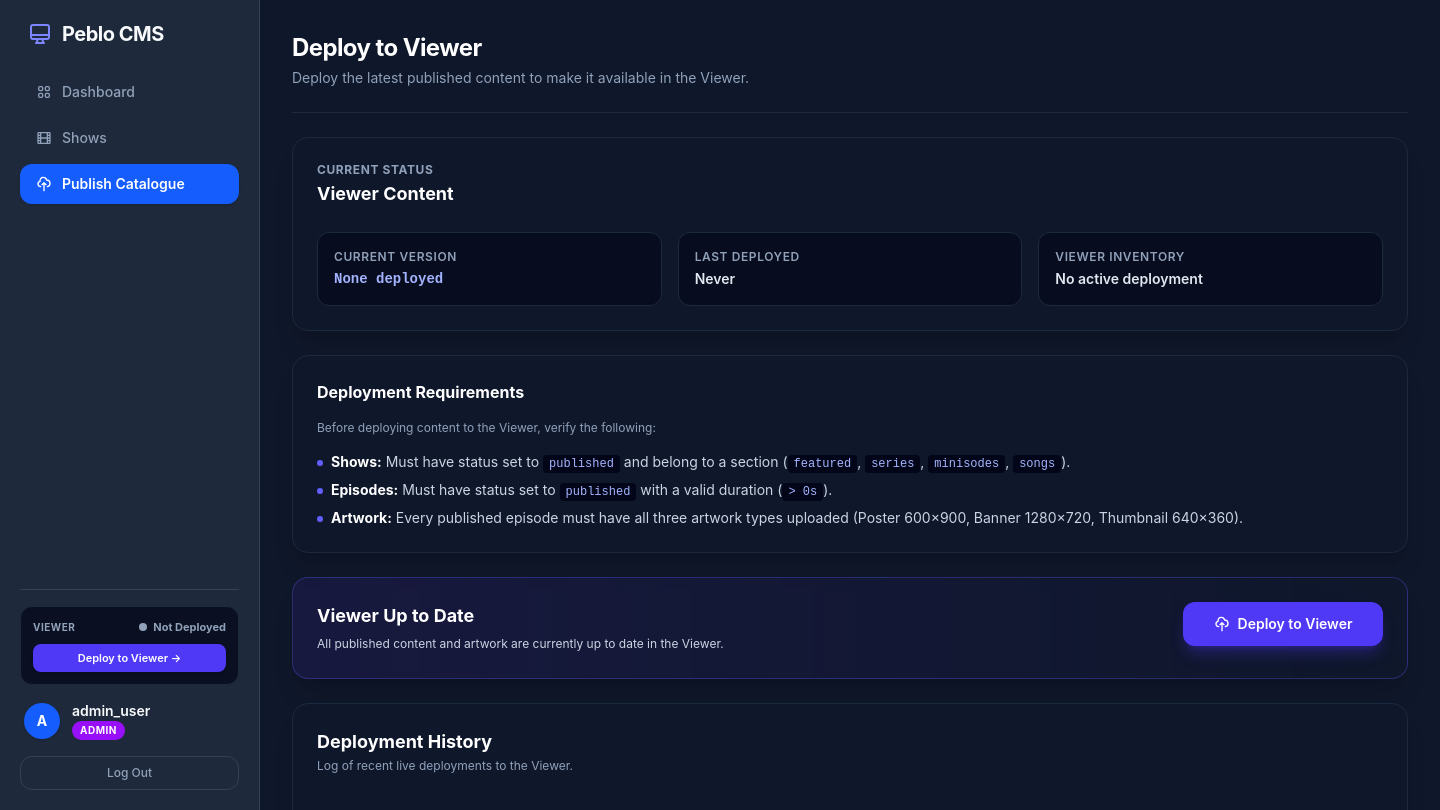
Test: CMS Catalogue Publishing › shows loading state and prevents duplicate submission while publishing is in flight
The image size is (1440, 810).
Expected: the text with test id "current-username" reads "admin_user", [72,702,150,719]
Click the button with test id "publish-catalog-btn". click: (1283, 624)
box: [1183,602,1383,646]
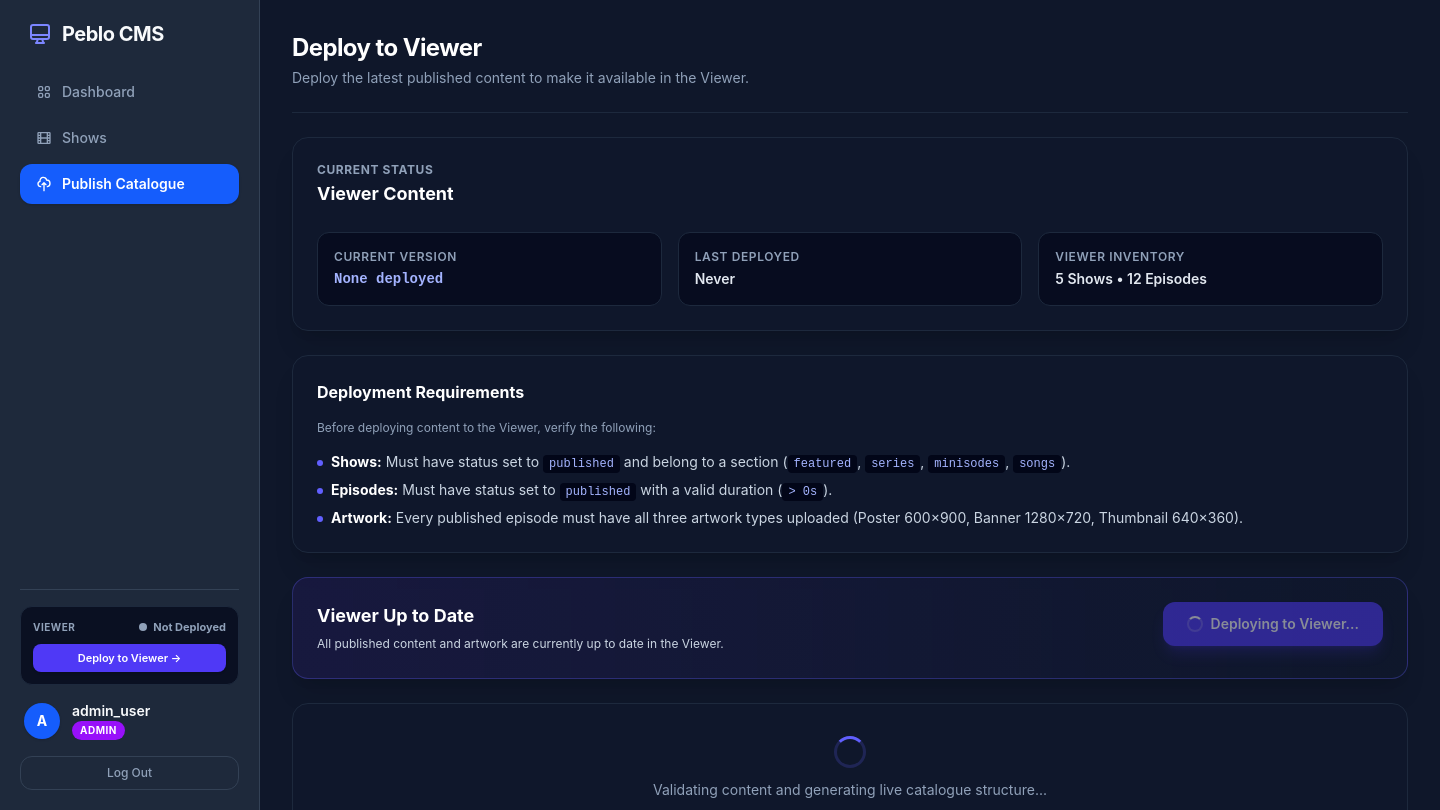
Now the element with test id "publish-loading-state" is shown, box [292,702,1408,809]
Now the button with test id "publish-catalog-btn" is disabled
Now the button "Deploying to Viewer..." is shown
Note: Click again while in-flight (duplicate submission prevention)
Click the button "Deploying to Viewer...". click: (1273, 624)
box: [1162,602,1383,646]
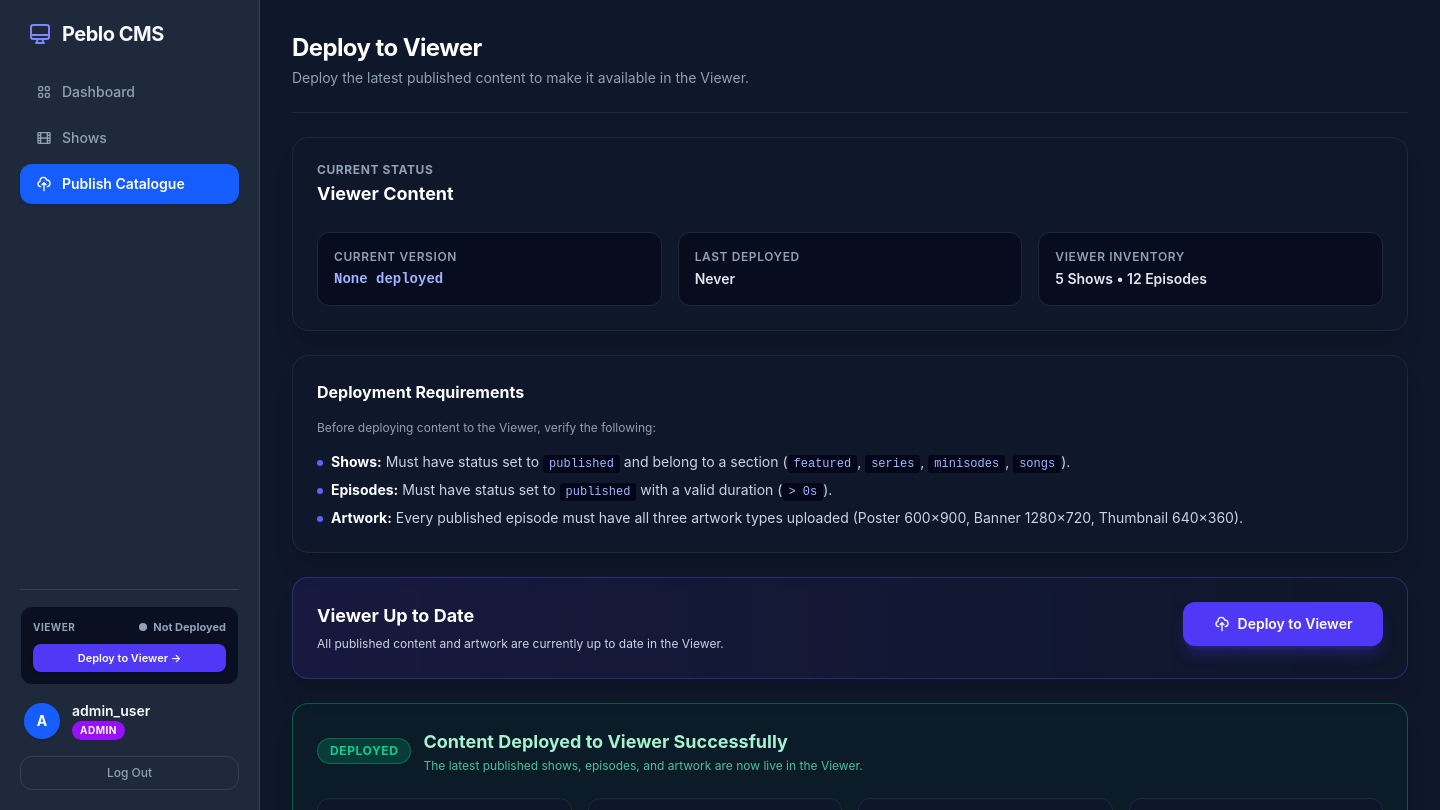
Now the button "Deploy to Viewer" is enabled, box [1183,602,1383,646]
